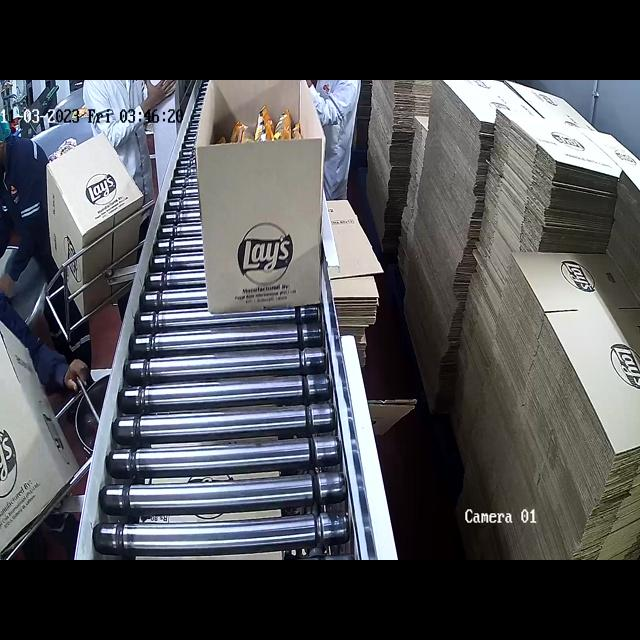cheese: (223, 106, 320, 151)
